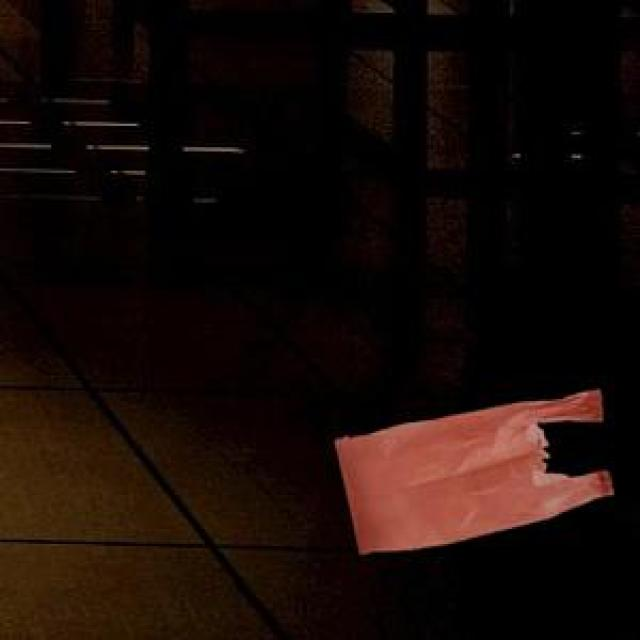plastic: (298, 370, 620, 578)
